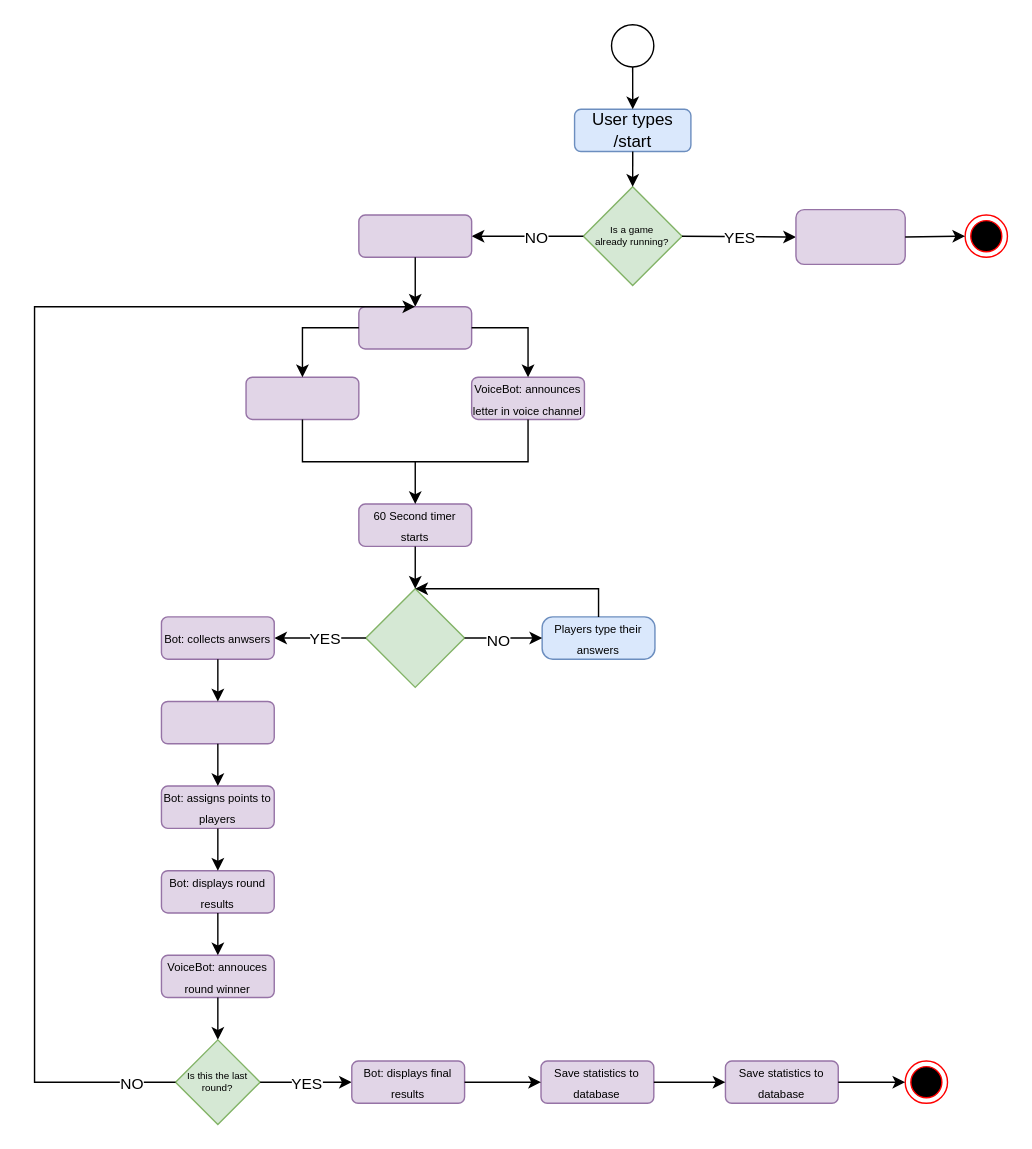
Some shapes in this 1032 by 1149 pixel diagram are drawn without their labels. The centre of each missing label's shape, as x and y in pixels:
Bot: announces letter in text channel: point (302, 397)
Bot: Creates game session: point (414, 235)
Bot: Picks a random letter: point (414, 327)
Bot: says in text channel "The game is already underway!!": point (850, 236)
Bot: validates anwsers: point (217, 722)
Start: point (632, 45)
Time ran out or someone typed STOP?: point (414, 637)
